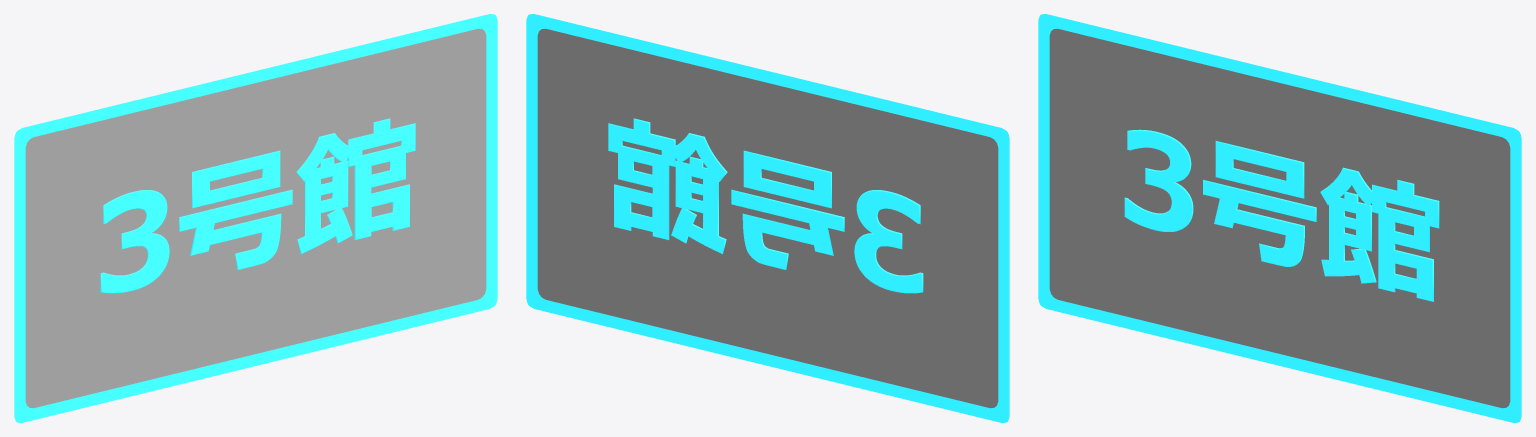
The model's file is TextPlate2.gltf.
3 views of the same model, side by side, from view 1: azimuth 30°, elevation 25°; view 2: azimuth 150°, elevation 25°; view 3: azimuth 330°, elevation 25° (orthographic).
Parts seen in each view (by area): view 1: 平面, 3号館; view 2: 平面, 3号館; view 3: 平面, 3号館.
Part boxes in pixels (bbox=[...]): 平面: bbox=[14, 14, 497, 422]; 3号館: bbox=[100, 118, 415, 293]; 平面: bbox=[526, 14, 1009, 422]; 3号館: bbox=[608, 118, 923, 293]; 平面: bbox=[1038, 14, 1521, 422]; 3号館: bbox=[1124, 129, 1439, 301].
Bounding box in the file's own units: 2.65 × 1.55 × 0.01.
